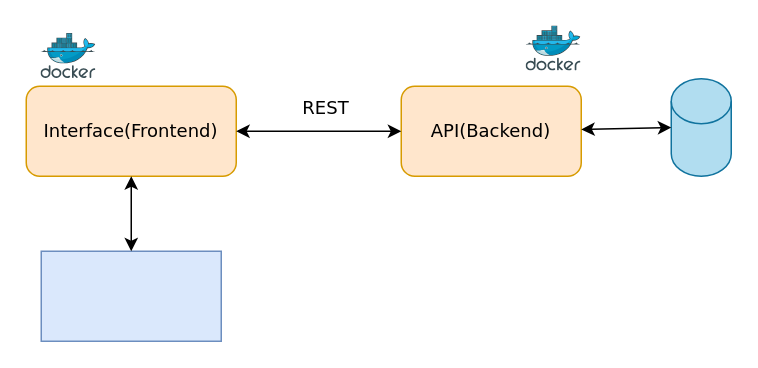
Some shapes in this 758 by 368 pixel diagram are drawn without their labels. The centre of each missing label's shape, as x and y in pixels:
API Externa (awesomeapi): pixel 130 295
DB: pixel 700 126
